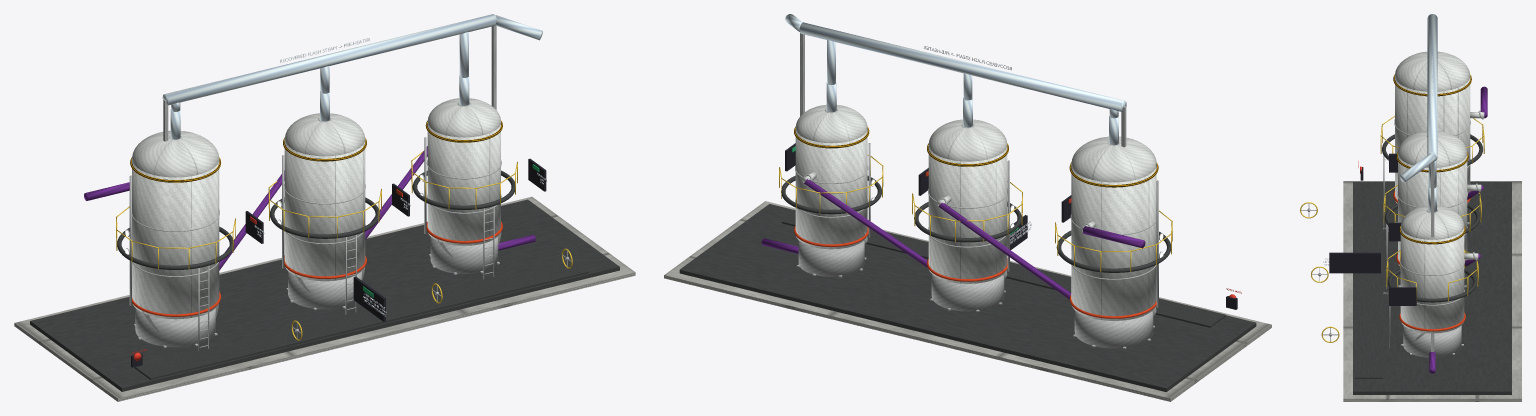
The model's file is FlashVessel_IndustrialUV_v2.fbx.
3 views of the same model, side by side, from view 1: azimuth 30°, elevation 25°; view 2: azimuth 150°, elevation 25°; view 3: azimuth 270°, elevation 25° (orthographic). The views are drawn at different scales.
Parts seen in each view (by area): view 1: FlashTrain_SkidPerimeter_Frame, FV1_VesselBody, FV2_VesselBody, FlashTrain_GratedWalkway_Main, FlashTrain_ConcretePad, FV3_VesselBody, SteamRecovery_Header_Main, FV1_TopDome, FV2_TopDome, FV3_TopDome, FV1_SupportSkirt, FV3_SupportSkirt (+6 smaller); view 2: FlashTrain_SkidPerimeter_Frame, FV1_VesselBody, FV2_VesselBody, FlashTrain_ConcretePad, FV3_VesselBody, SteamRecovery_Header_Main, FV1_TopDome, FlashTrain_GratedWalkway_Main, FV2_TopDome, FV1_SupportSkirt, FV3_TopDome, FV2_SupportSkirt (+7 smaller); view 3: FlashTrain_SkidPerimeter_Frame, FlashTrain_ConcretePad, FV3_VesselBody, FlashTrain_GratedWalkway_Main, FV1_VesselBody, FV2_VesselBody, FV1_TopDome, FV2_TopDome, FV3_TopDome, SteamRecovery_Header_Main, FV3_SupportSkirt, FlashTrain_MainPanel_Backplate (+11 smaller).
Boxes of the visible parts, x1,y1,x2,y2 form: FlashTrain_SkidPerimeter_Frame: [30, 199, 619, 391]; FV1_VesselBody: [132, 160, 219, 319]; FV2_VesselBody: [284, 140, 365, 281]; FlashTrain_GratedWalkway_Main: [134, 260, 588, 379]; FlashTrain_ConcretePad: [14, 196, 635, 401]; FV3_VesselBody: [427, 123, 500, 245]; SteamRecovery_Header_Main: [162, 14, 496, 105]; FV1_TopDome: [132, 130, 219, 177]; FV2_TopDome: [284, 113, 365, 156]; FV3_TopDome: [427, 98, 500, 137]; FV1_SupportSkirt: [135, 308, 215, 347]; FV3_SupportSkirt: [430, 236, 498, 274]; FlashTrain_SkidPerimeter_Frame: [679, 204, 1256, 391]; FV1_VesselBody: [1071, 165, 1156, 320]; FV2_VesselBody: [928, 146, 1007, 283]; FlashTrain_ConcretePad: [664, 201, 1271, 401]; FV3_VesselBody: [795, 129, 867, 249]; SteamRecovery_Header_Main: [799, 22, 1126, 112]; FV1_TopDome: [1071, 136, 1156, 182]; FlashTrain_GratedWalkway_Main: [782, 212, 1225, 327]; FV2_TopDome: [928, 119, 1007, 161]; FV1_SupportSkirt: [1074, 310, 1153, 348]; FV3_TopDome: [795, 104, 867, 143]; FV2_SupportSkirt: [931, 274, 1004, 311]; FlashTrain_SkidPerimeter_Frame: [1353, 182, 1511, 394]; FlashTrain_ConcretePad: [1343, 181, 1521, 401]; FV3_VesselBody: [1400, 227, 1464, 333]; FlashTrain_GratedWalkway_Main: [1355, 193, 1382, 378]; FV1_VesselBody: [1395, 77, 1470, 203]; FV2_VesselBody: [1398, 154, 1467, 265]; FV1_TopDome: [1395, 51, 1470, 91]; FV2_TopDome: [1398, 131, 1467, 167]; FV3_TopDome: [1401, 206, 1464, 239]; SteamRecovery_Header_Main: [1427, 14, 1437, 161]; FV3_SupportSkirt: [1403, 325, 1461, 357]; FlashTrain_MainPanel_Backplate: [1329, 252, 1380, 273].
Bounding box in the file's own units: 26 × 12.1 × 11.17.
Materials: 16 (11 with a texture image).
